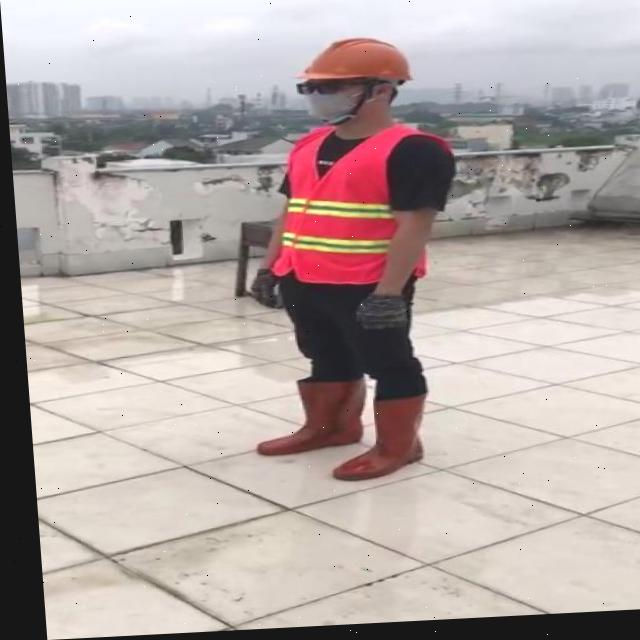Gloves: (349, 294, 408, 336), (245, 269, 277, 312)
Helmet: (290, 39, 413, 92)
Safety-Boot: (246, 376, 365, 458), (320, 395, 426, 485)
Safety-Vest: (258, 123, 458, 293)
